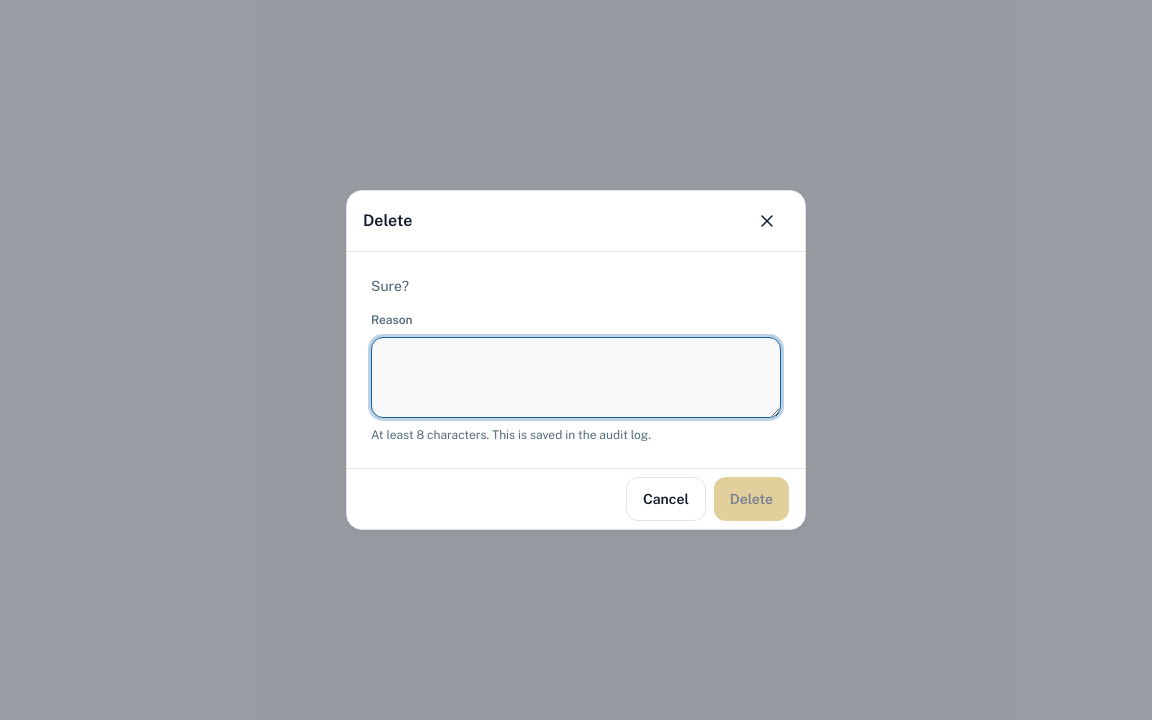
Test: Modal + ConfirmDialog accessibility › requires a reason before confirming
Later steps or results of the test are not shown.
expect the button "Delete" is disabled: met, box [714,477,789,521]
In the text box labelled "Reason": (576, 378) [371,337,781,418], type "Registered by mistake"
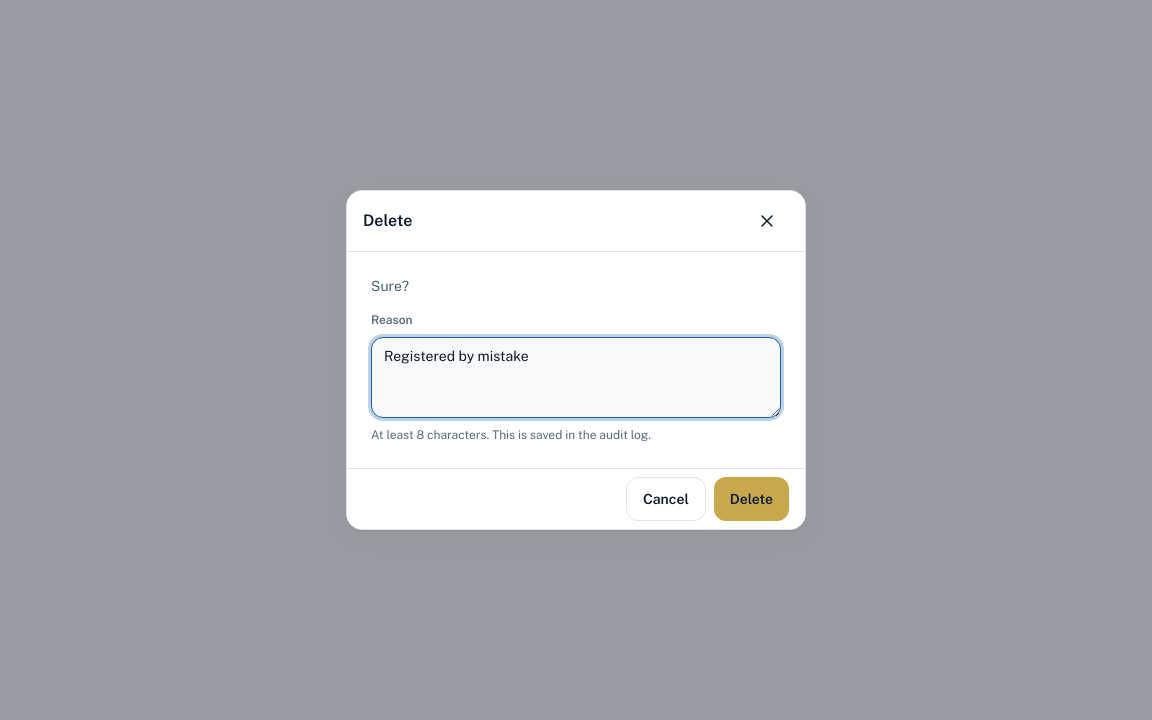
expect the button "Delete" is enabled: met, box [714,477,789,521]
